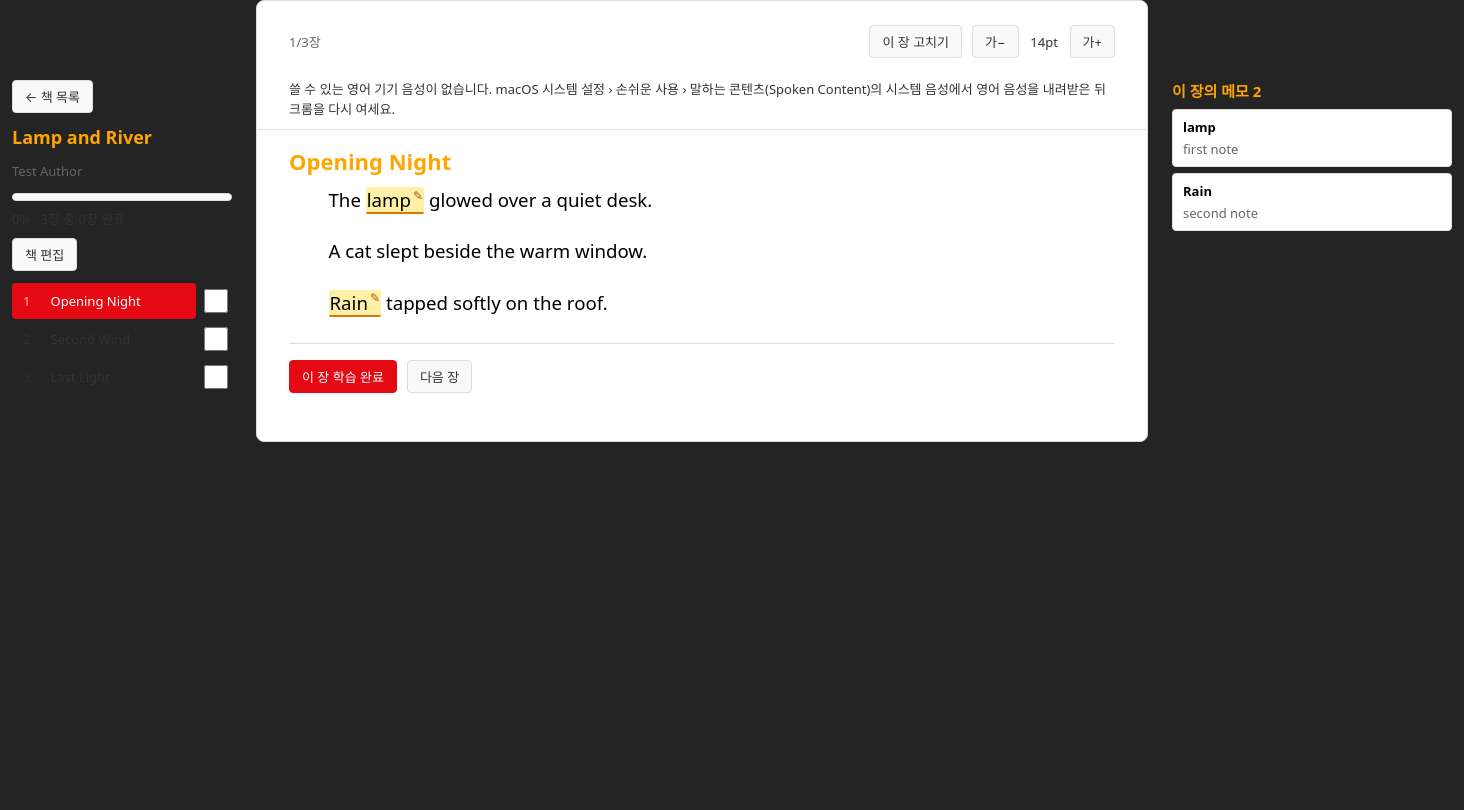
it: BookReader › 4.4-4 메모 둘인 장에서 목록 두 번째 항목을 누르면 그 하이라이트로 스크롤하고 메모 영역이 열린다
Expected: the element showing "lamp" is shown, left=366, top=187, right=424, bottom=214
Click the button "Rain second note": (1220, 213) left=1172, top=173, right=1452, bottom=231
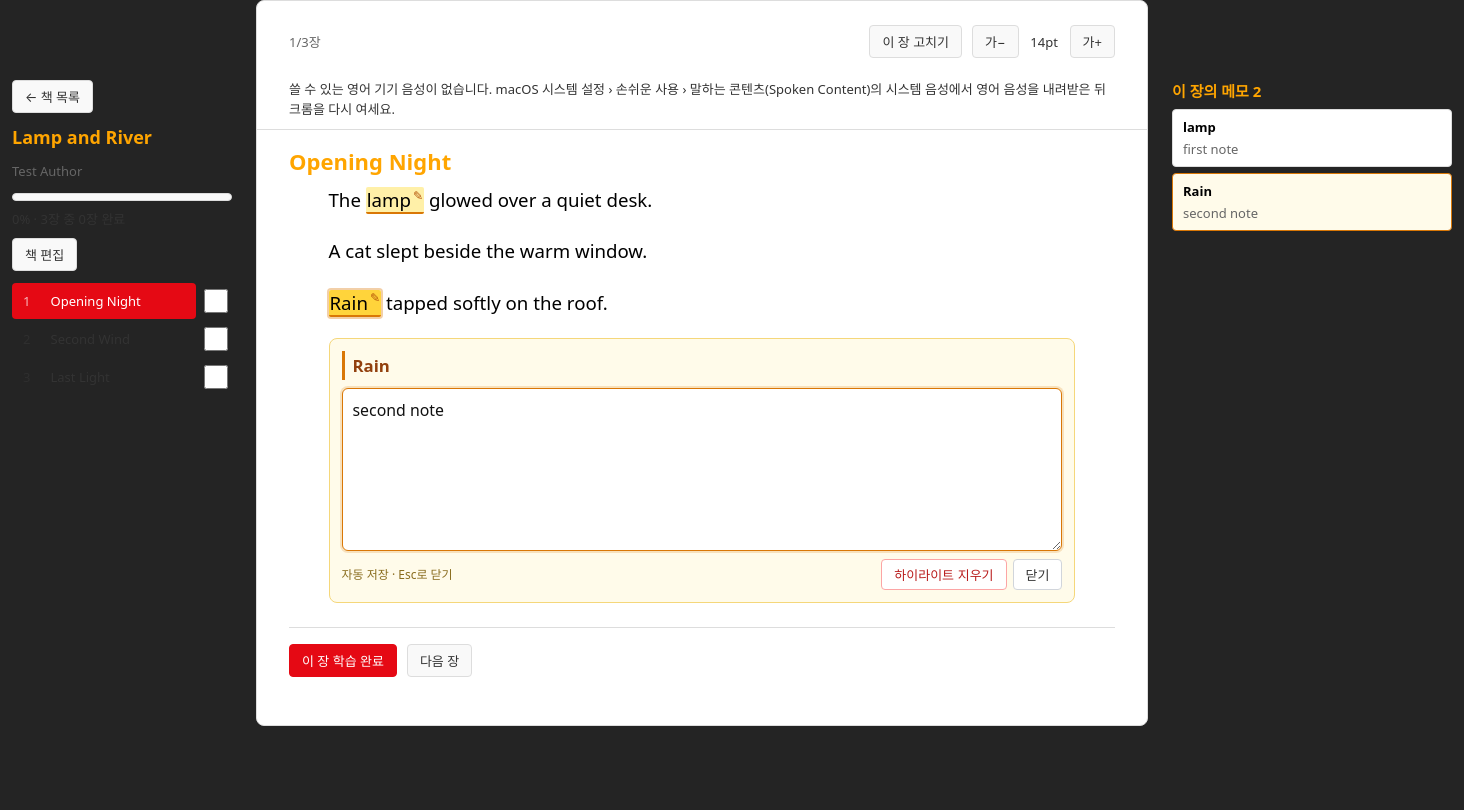
Now the text box named "메모" holds "second note", box left=342, top=388, right=1062, bottom=551
